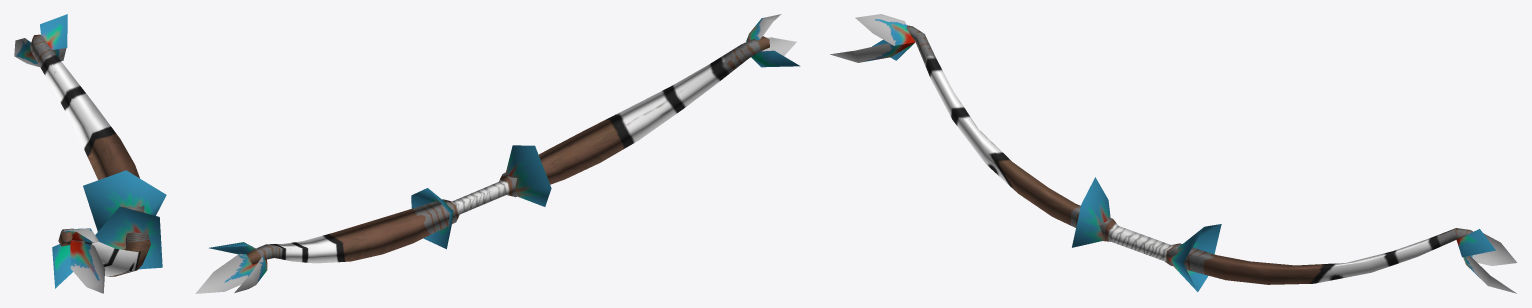
Rendered from rangedweapon-jadeweapons.glb.
3 views of the same model, side by side, from view 1: azimuth 30°, elevation 25°; view 2: azimuth 150°, elevation 25°; view 3: azimuth 270°, elevation 25° (orthographic). The views are drawn at different scales.
Bounding box in the file's own units: 0.9797 × 0.4849 × 1.79.
Materials: 1 (1 with a texture image).
